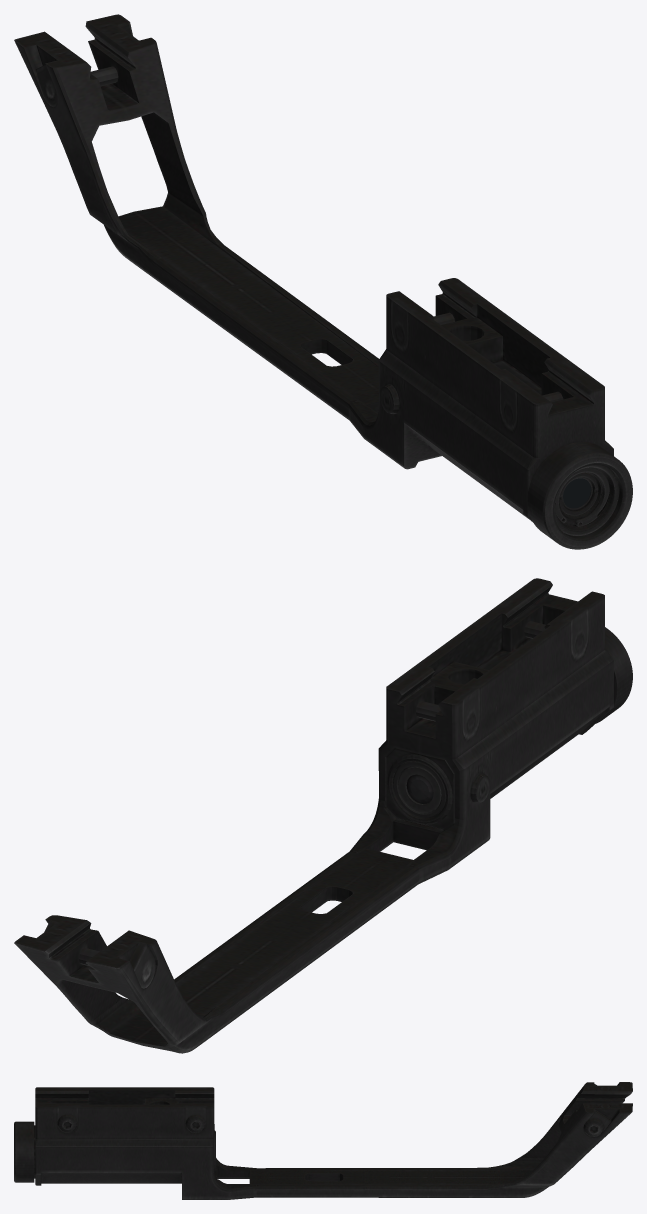
The picture shows the model from 3 angles, top to bottom: view 1: azimuth 30°, elevation 25°; view 2: azimuth 150°, elevation 25°; view 3: azimuth 270°, elevation 25°; orthographic projection. The views are drawn at different scales.
Parts seen in each view (by area): view 1: TW_622b4d7df9cfc87d675d2ded_PZ_Import; view 2: TW_622b4d7df9cfc87d675d2ded_PZ_Import; view 3: TW_622b4d7df9cfc87d675d2ded_PZ_Import.
Part boxes in pixels (x1,y1,x2,y2): TW_622b4d7df9cfc87d675d2ded_PZ_Import: (14,14,632,549); TW_622b4d7df9cfc87d675d2ded_PZ_Import: (14,578,632,1053); TW_622b4d7df9cfc87d675d2ded_PZ_Import: (14,1082,632,1199).
Bounding box in the file's own units: 0.0234 × 0.1966 × 0.032.
Materials: 1 (1 with a texture image).
